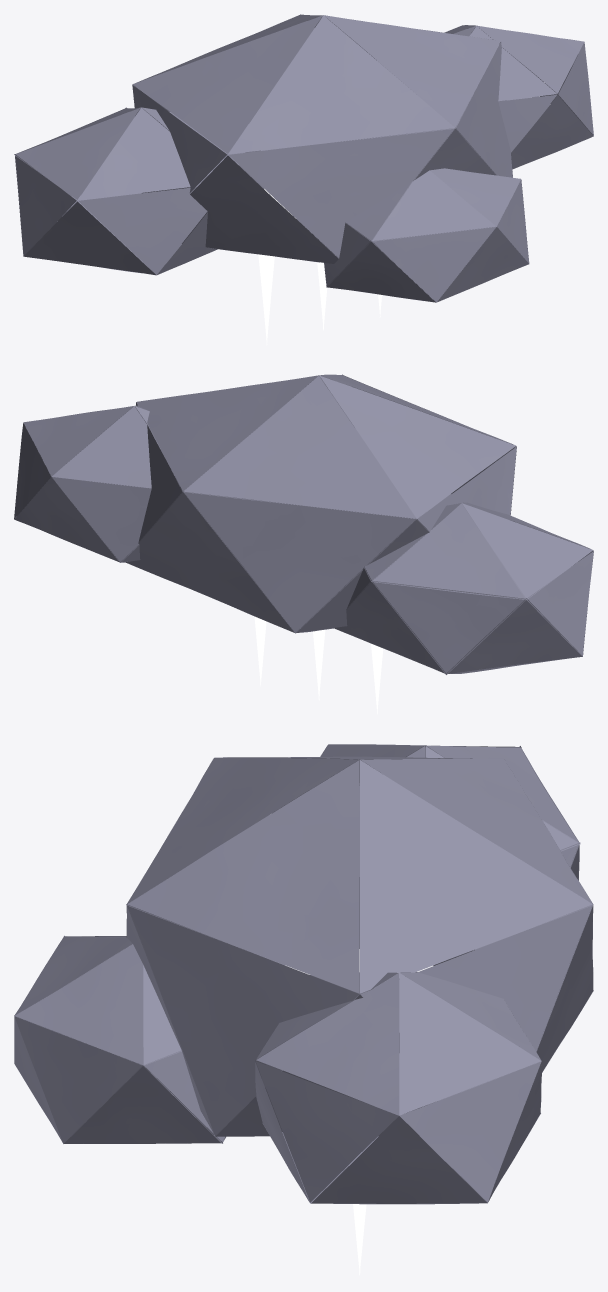
Rendered from cloud_storm.glb.
The picture shows the model from 3 angles, top to bottom: view 1: azimuth 30°, elevation 25°; view 2: azimuth 150°, elevation 25°; view 3: azimuth 270°, elevation 25°; orthographic projection. The views are drawn at different scales.
Parts seen in each view (by area): view 1: StormPuff0; view 2: StormPuff0; view 3: StormPuff0.
Part boxes in pixels (x1=…): StormPuff0: x1=14, y1=14, x2=593, y2=345; StormPuff0: x1=14, y1=374, x2=593, y2=714; StormPuff0: x1=14, y1=744, x2=593, y2=1275.
Size of the model in its own units: 2.93 by 1.6 by 1.77.
